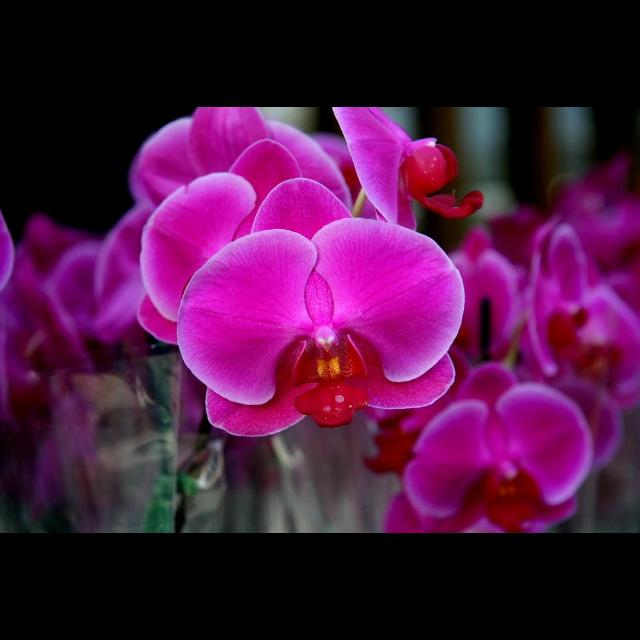Flower: (1, 107, 640, 533), (170, 219, 458, 433)
